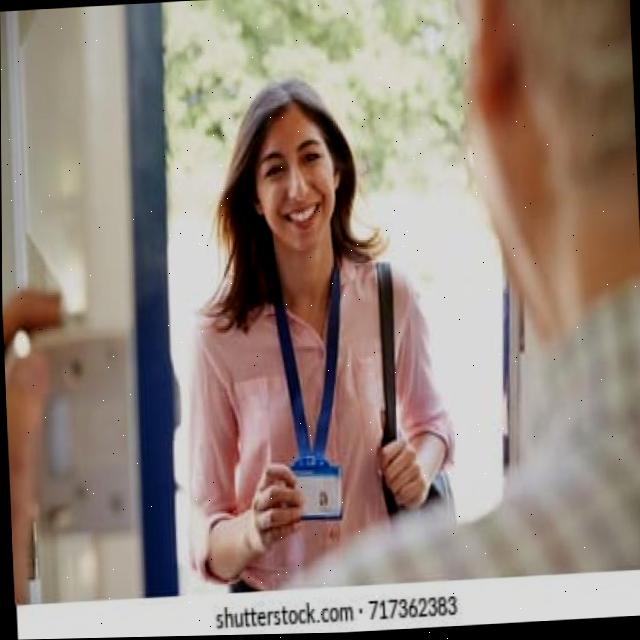id_card: (254, 266, 369, 528)
